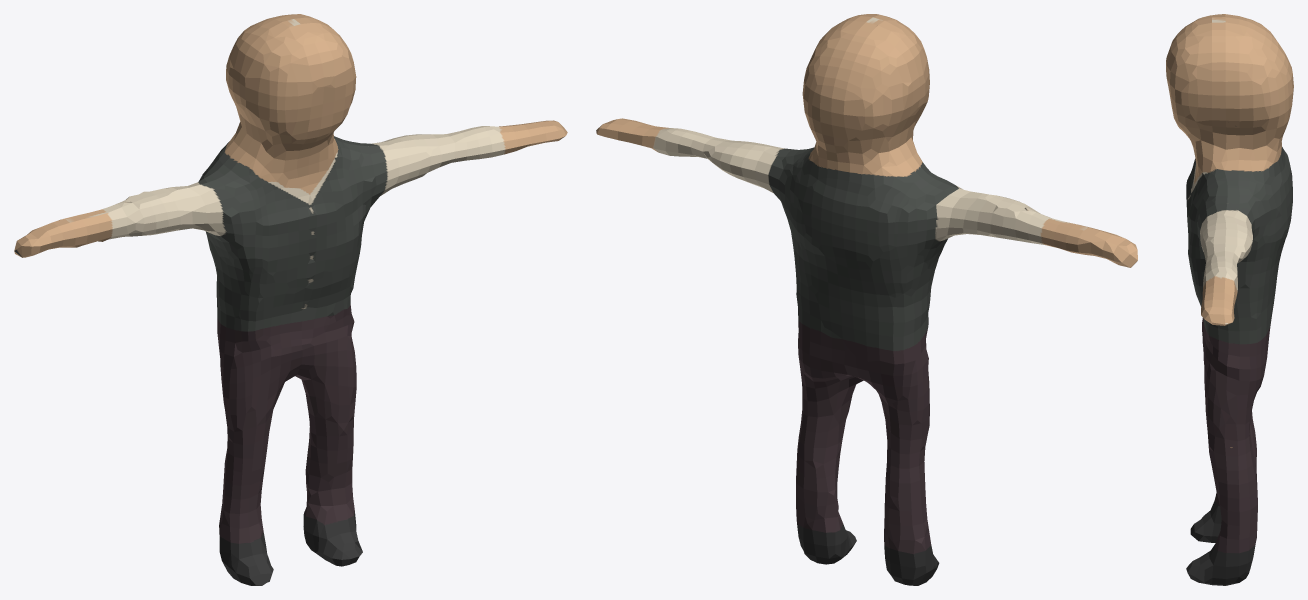
Rendered from gang_2.fbx.
3 views of the same model, side by side, from view 1: azimuth 30°, elevation 25°; view 2: azimuth 150°, elevation 25°; view 3: azimuth 270°, elevation 25° (orthographic).
Visible parts, largest first — view 1: Gang_2; view 2: Gang_2; view 3: Gang_2.
Boxes of the visible parts, x1,y1,x2,y2 form: Gang_2: (14,14,567,585); Gang_2: (596,14,1137,585); Gang_2: (1166,14,1293,585).
Bounding box in the file's own units: 476 × 456 × 97.85.
1 material, 1 textured.
